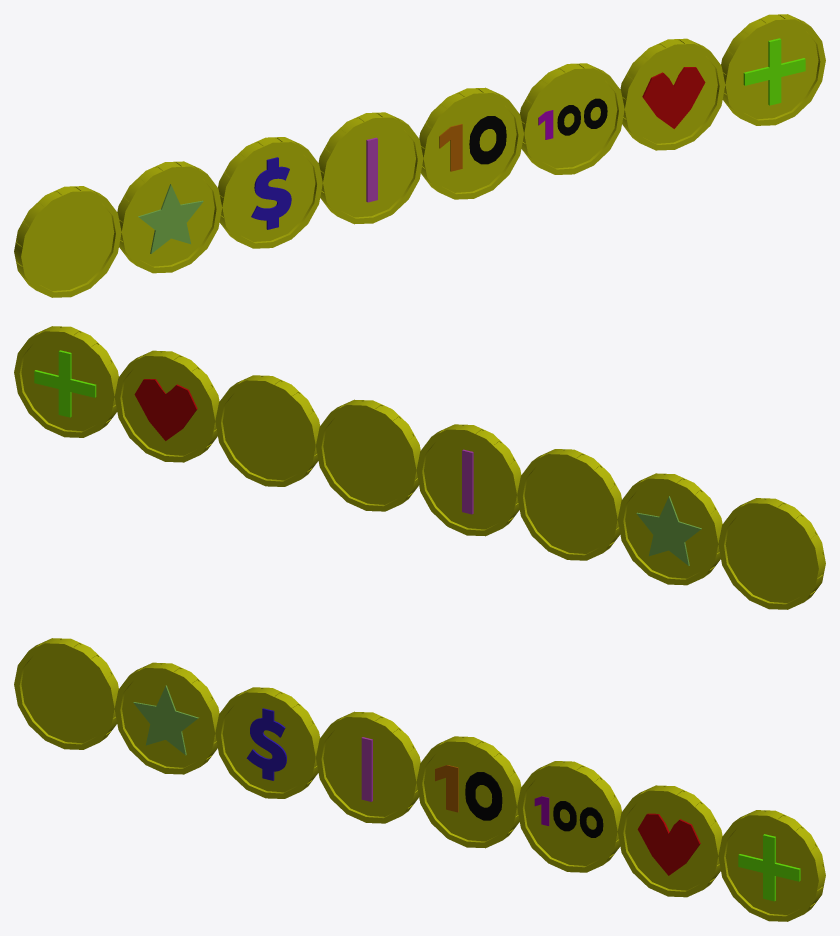
Rendered from Coins.fbx.
The picture shows the model from 3 angles, top to bottom: view 1: azimuth 30°, elevation 25°; view 2: azimuth 150°, elevation 25°; view 3: azimuth 330°, elevation 25°; orthographic projection.
Parts seen in each view (by area): view 1: Coin1, pCylinder5, pCylinder7, pCylinder10, pCylinder4, pCylinder6, pCylinder2, pCylinder9, polySurface5, typeMesh3, pCylinder3, typeMesh1 (+3 smaller); view 2: Coin1, pCylinder7, pCylinder4, pCylinder6, pCylinder5, pCylinder10, pCylinder2, pCylinder9, polySurface5, pCylinder3, pCube2, pCube1; view 3: Coin1, pCylinder5, pCylinder7, pCylinder10, pCylinder4, pCylinder6, pCylinder2, pCylinder9, polySurface5, typeMesh3, pCylinder3, typeMesh1 (+3 smaller).
Boxes of the visible parts, x1,y1,x2,y2 form: Coin1: [14, 186, 121, 297]; pCylinder5: [318, 112, 423, 224]; pCylinder7: [520, 63, 624, 174]; pCylinder10: [721, 14, 825, 125]; pCylinder4: [218, 137, 322, 248]; pCylinder6: [419, 87, 523, 199]; pCylinder2: [117, 161, 222, 273]; pCylinder9: [620, 38, 725, 150]; polySurface5: [642, 67, 705, 128]; typeMesh3: [439, 116, 506, 171]; pCylinder3: [138, 184, 203, 253]; typeMesh1: [251, 157, 291, 229]; Coin1: [718, 498, 825, 609]; pCylinder7: [215, 375, 319, 486]; pCylinder4: [517, 449, 621, 560]; pCylinder6: [316, 399, 420, 511]; pCylinder5: [416, 424, 521, 536]; pCylinder10: [14, 326, 118, 437]; pCylinder2: [617, 473, 722, 585]; pCylinder9: [114, 350, 219, 462]; polySurface5: [134, 379, 197, 440]; pCylinder3: [636, 496, 701, 565]; pCube2: [34, 350, 96, 417]; pCube1: [462, 449, 473, 514]; Coin1: [14, 638, 118, 749]; pCylinder5: [316, 711, 420, 823]; pCylinder7: [517, 761, 621, 872]; pCylinder10: [718, 810, 825, 921]; pCylinder4: [215, 687, 319, 798]; pCylinder6: [416, 736, 521, 848]; pCylinder2: [114, 662, 219, 774]; pCylinder9: [617, 785, 722, 897]; polySurface5: [637, 813, 700, 875]; typeMesh3: [435, 765, 502, 820]; pCylinder3: [133, 685, 198, 755]; typeMesh1: [246, 708, 286, 780].
Size of the model in its own units: 16 by 2 by 0.2435.
